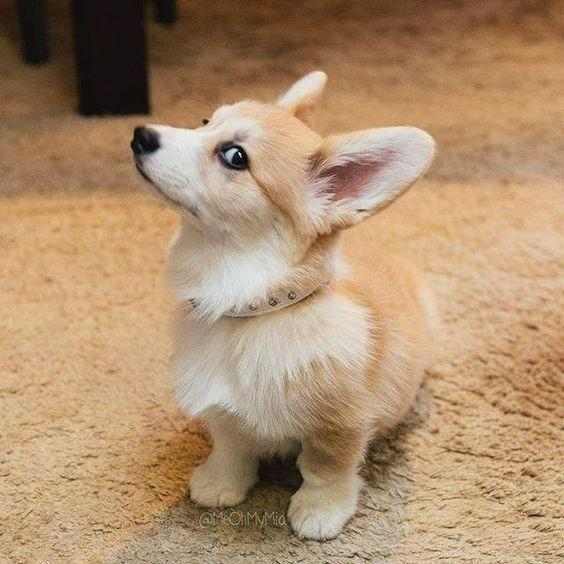puppy-dog: (127, 70, 443, 543)
